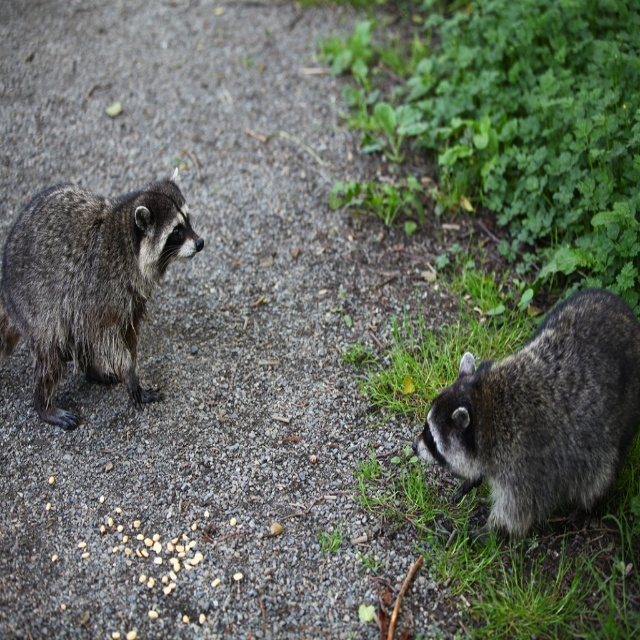Raccoon: (412, 286, 640, 551), (0, 175, 206, 431)
